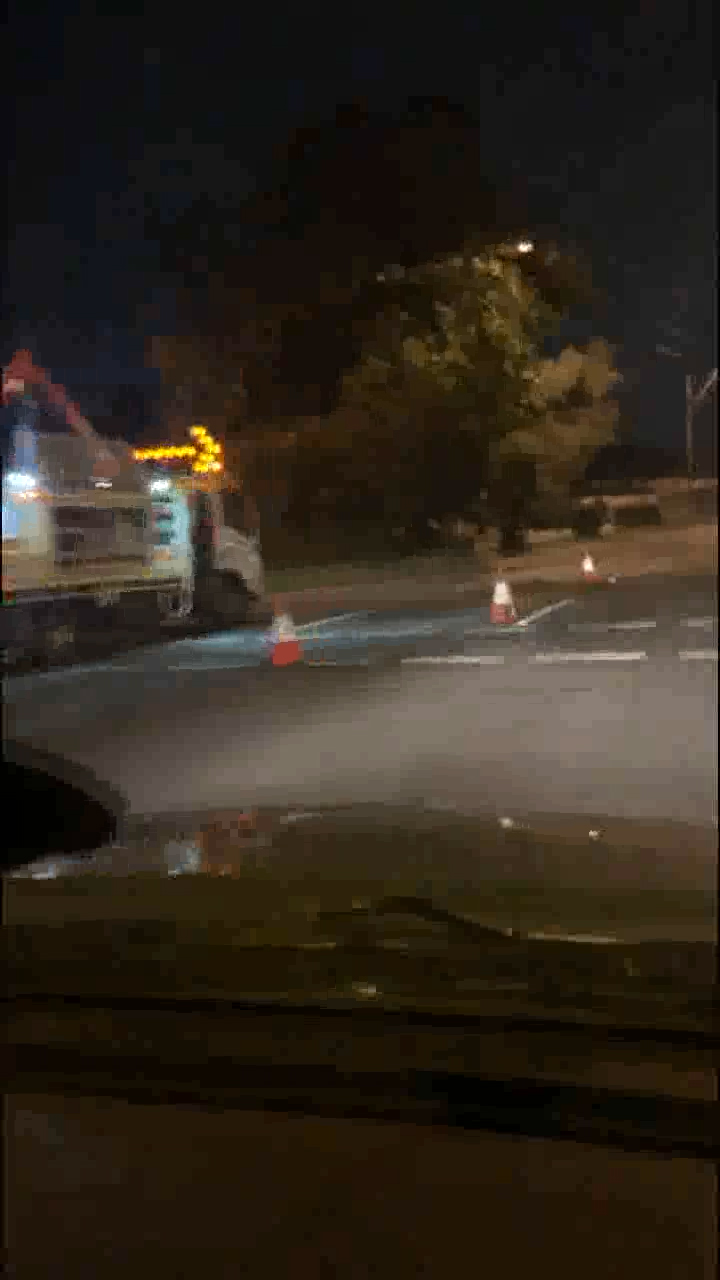road cone: (491, 559, 524, 623), (574, 542, 608, 586)
truck: (1, 344, 270, 653)
